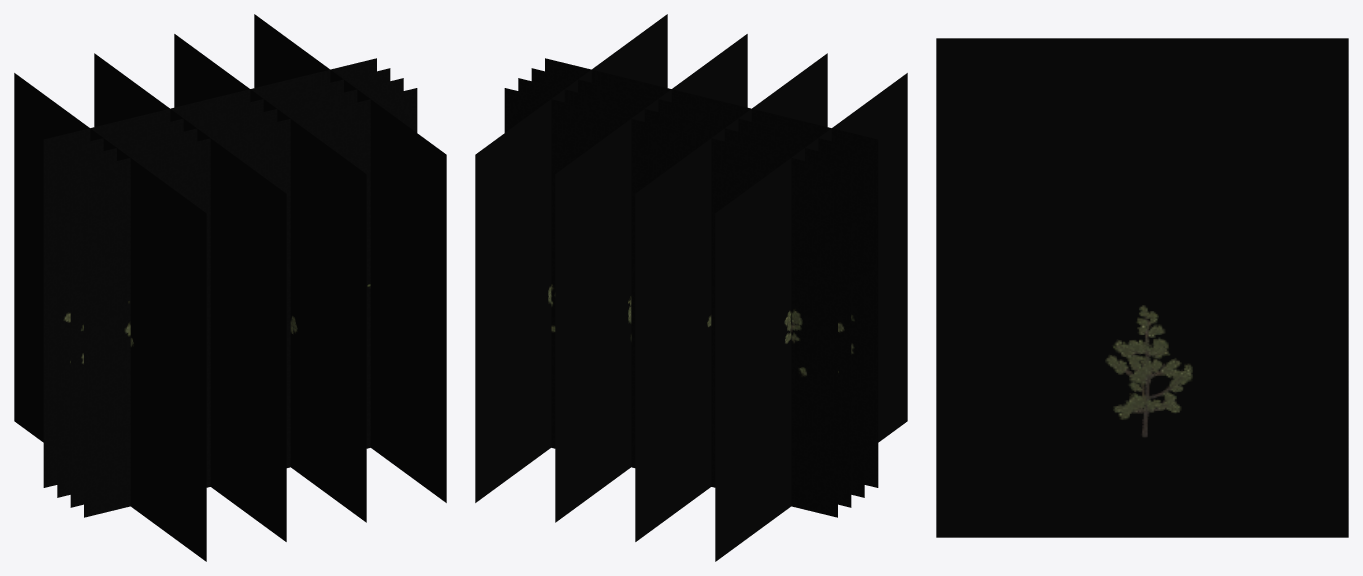
The model's file is pine_sapling.glb.
3 renders of one model, left to right at view 1: azimuth 30°, elevation 25°; view 2: azimuth 150°, elevation 25°; view 3: azimuth 270°, elevation 25°, orthographic. The views are drawn at different scales.
Visible parts, largest first — view 1: pine_sapling; view 2: pine_sapling; view 3: pine_sapling.
Boxes of the visible parts, x1=… form: pine_sapling: x1=14, y1=14, x2=446, y2=561; pine_sapling: x1=475, y1=14, x2=907, y2=561; pine_sapling: x1=936, y1=38, x2=1348, y2=537.
Size of the model in its own units: 2.75 by 2.75 by 2.75.
1 material, 1 textured.
